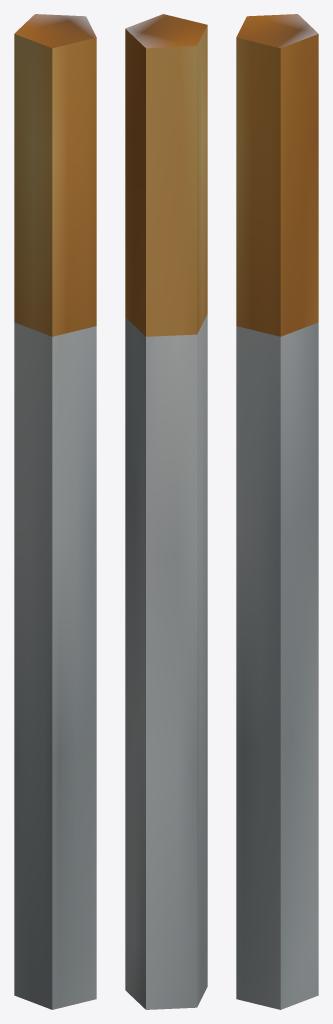
The model's file is cigarette.glb.
The picture shows the model from 3 angles, left to right: view 1: azimuth 30°, elevation 25°; view 2: azimuth 150°, elevation 25°; view 3: azimuth 330°, elevation 25°; orthographic projection.
Parts seen in each view (by area): view 1: Cylinder; view 2: Cylinder; view 3: Cylinder.
Boxes of the visible parts, x1,y1,x2,y2 form: Cylinder: [14, 14, 96, 1009]; Cylinder: [125, 14, 207, 1009]; Cylinder: [236, 14, 318, 1009].
Bounding box in the file's own units: 35.67 × 456 × 33.93.
Materials: 1 (1 with a texture image).
